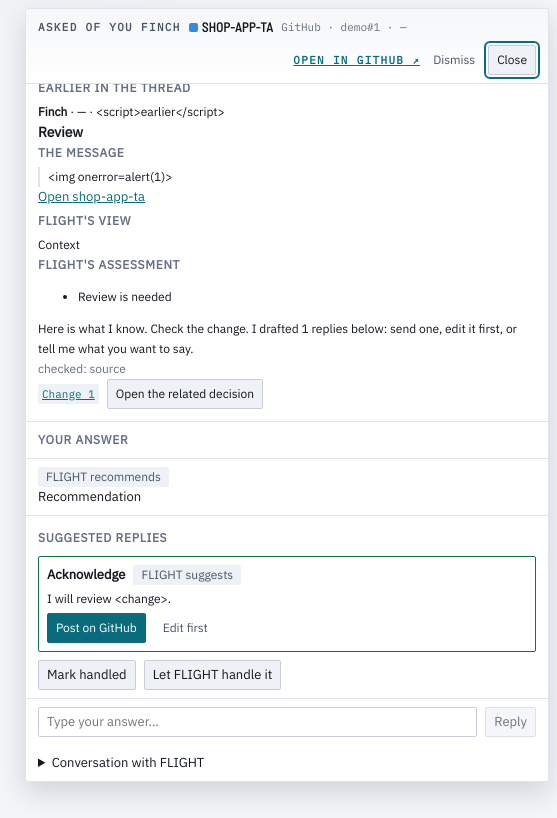
it: posts only on explicit approval, once, and retains the result
(page scrolled)
Click the button "Post on GitHub" at (96, 628), box [47,613,146,643]
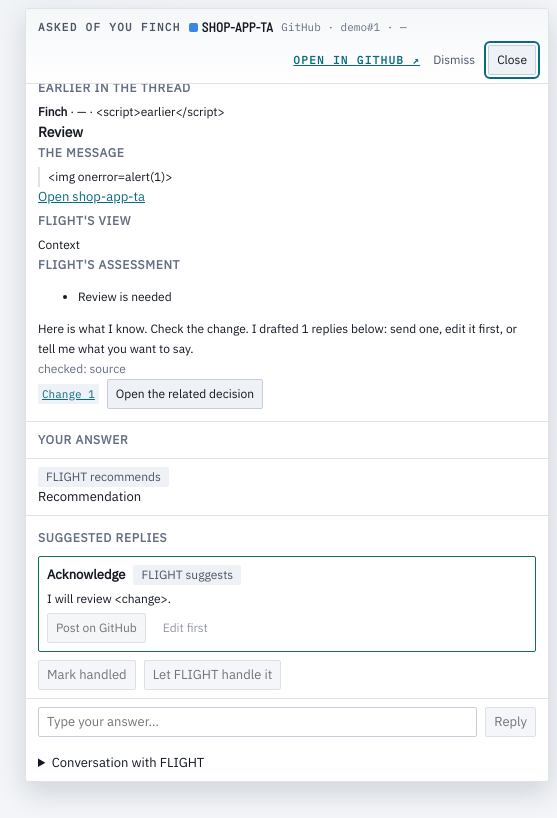
Click the button "Post on GitHub" at (96, 628), box [47,613,146,643]
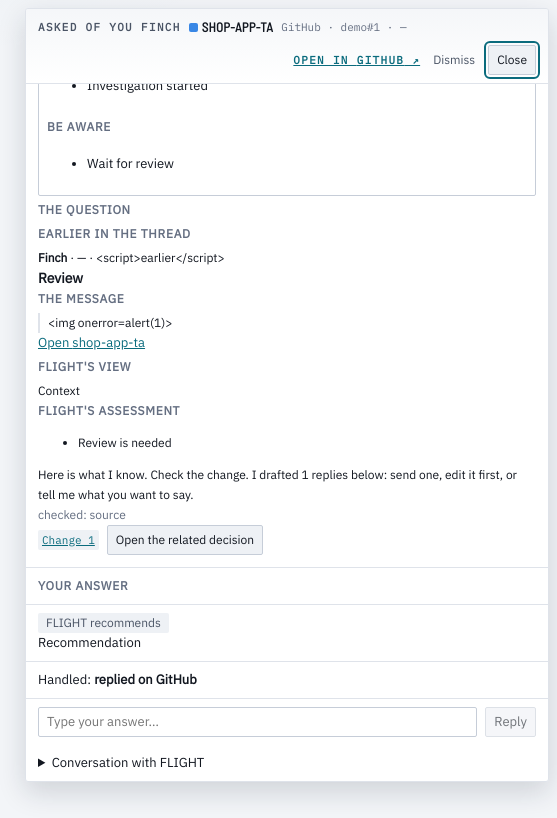
Result: the text "replied on GitHub" is shown at [94,671,197,688]
